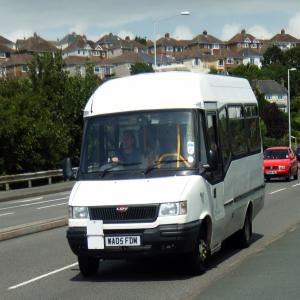Vehicle-registration-plate: (106, 236, 142, 248), (267, 171, 278, 176)
